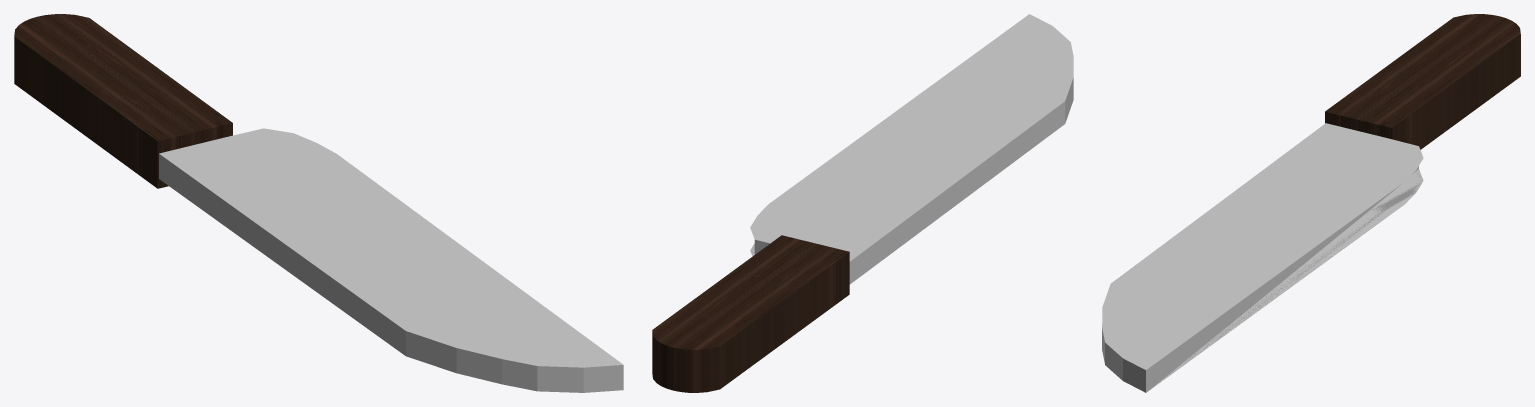
Rendered from KitchenKnife.fbx.
3 renders of one model, left to right at view 1: azimuth 30°, elevation 25°; view 2: azimuth 150°, elevation 25°; view 3: azimuth 330°, elevation 25°, orthographic. The views are drawn at different scales.
Visible parts, largest first — view 1: Plane, Plane.001; view 2: Plane, Plane.001; view 3: Plane, Plane.001.
Boxes of the visible parts, left/top/right/bottom form: Plane: left=159, top=128, right=623, bottom=392; Plane.001: left=14, top=14, right=232, bottom=188; Plane: left=750, top=14, right=1073, bottom=284; Plane.001: left=652, top=235, right=849, bottom=392; Plane: left=1102, top=123, right=1423, bottom=392; Plane.001: left=1325, top=14, right=1520, bottom=149.
Size of the model in its own units: 203 by 68.85 by 1286.
